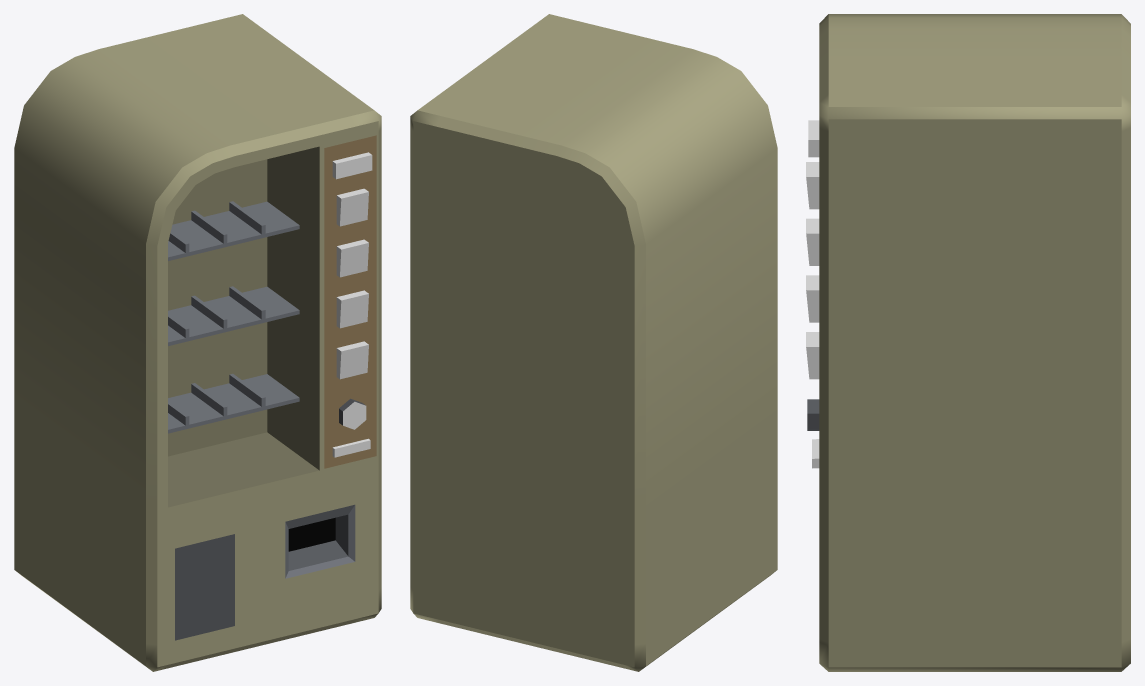
The model's file is PTech.glb.
3 renders of one model, left to right at view 1: azimuth 30°, elevation 25°; view 2: azimuth 150°, elevation 25°; view 3: azimuth 270°, elevation 25°, orthographic. The views are drawn at different scales.
Visible parts, largest first — view 1: PTech; view 2: PTech; view 3: PTech.
Part boxes in pixels (x1,y1,x2,y2): PTech: (14, 14, 381, 671); PTech: (410, 14, 777, 671); PTech: (806, 14, 1130, 671).
Size of the model in its own units: 0.8731 by 1.8 by 0.9354.
Materials: 2 (1 with a texture image).
